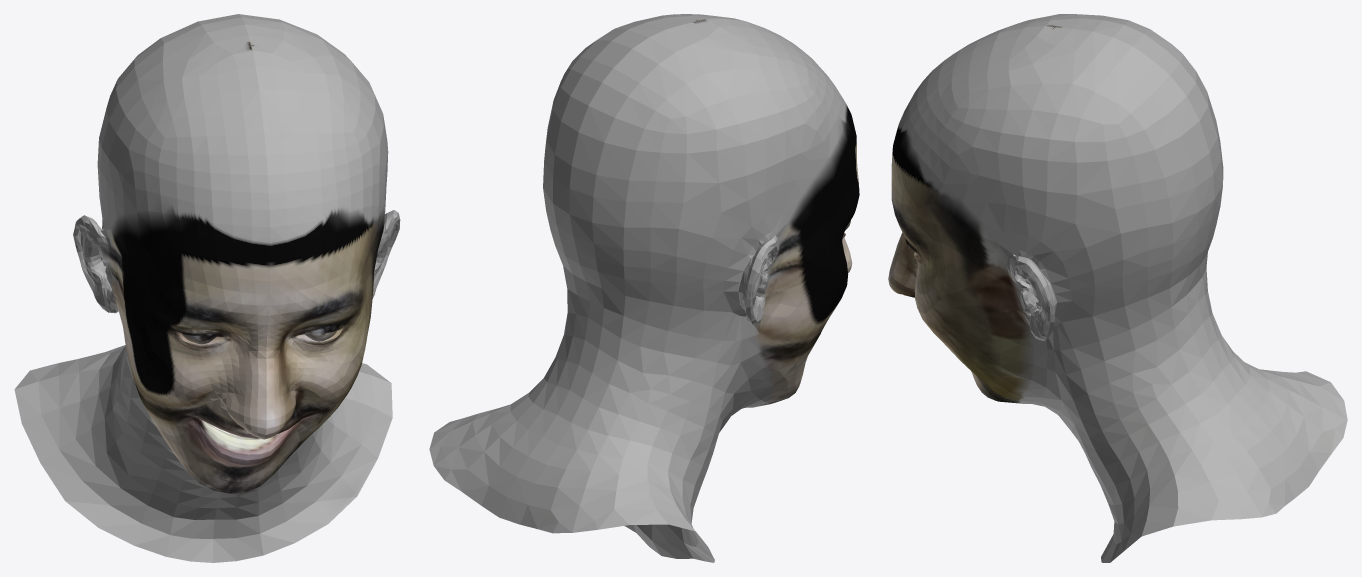
Rendered from ezgif-frame-005.obj.
The picture shows the model from 3 angles, left to right: view 1: azimuth 30°, elevation 25°; view 2: azimuth 150°, elevation 25°; view 3: azimuth 270°, elevation 25°; orthographic projection. The views are drawn at different scales.
Size of the model in its own units: 0.2076 by 0.3275 by 0.2655.
Materials: 1 (1 with a texture image).
